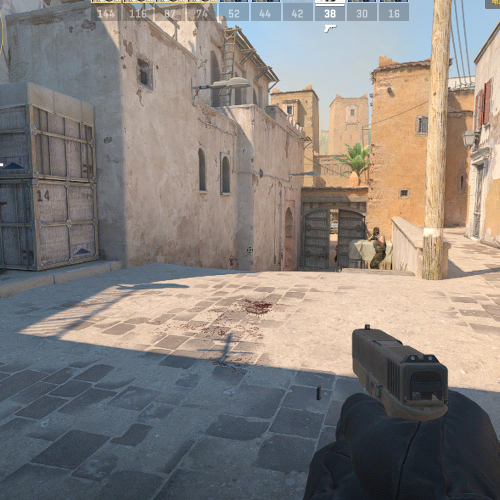t_body: (367, 227, 387, 271)
t_head: (373, 227, 380, 235)
